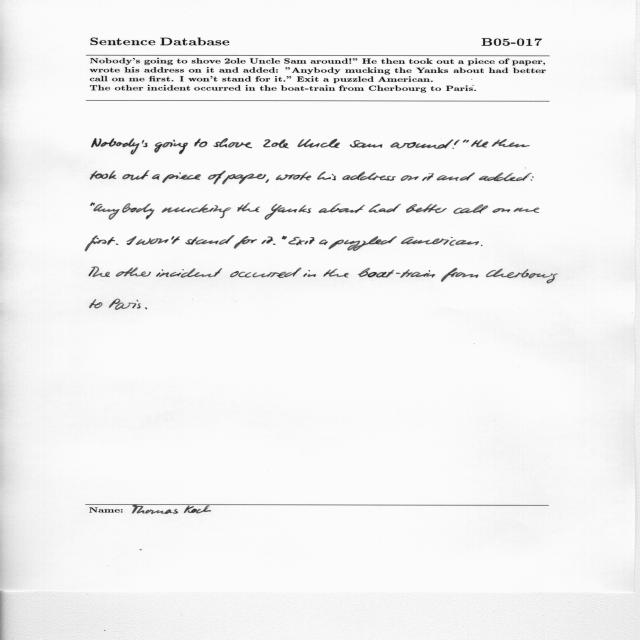word: (486, 269, 558, 284), (93, 203, 155, 220), (328, 236, 397, 251), (161, 204, 231, 218), (91, 138, 140, 155), (230, 267, 302, 278), (358, 268, 435, 278), (265, 204, 311, 220), (401, 237, 479, 246), (156, 268, 222, 278), (390, 139, 454, 149), (441, 268, 478, 282), (185, 235, 235, 245), (342, 172, 396, 181), (222, 174, 266, 185), (85, 236, 115, 252), (155, 140, 189, 154), (479, 173, 531, 182), (319, 204, 365, 214), (162, 172, 201, 183), (136, 236, 180, 245), (298, 139, 341, 148), (214, 138, 252, 148), (406, 204, 447, 213), (109, 299, 141, 310), (454, 204, 489, 214), (116, 267, 151, 277), (437, 172, 475, 181), (492, 139, 530, 147), (234, 236, 257, 249), (369, 204, 401, 213), (122, 171, 150, 181), (276, 172, 311, 180), (350, 140, 382, 148), (208, 171, 226, 185), (90, 171, 117, 180), (263, 139, 289, 148), (323, 269, 349, 278), (288, 237, 315, 245), (89, 267, 110, 277), (237, 203, 260, 212), (317, 172, 336, 181), (514, 207, 540, 213), (471, 140, 488, 148), (194, 139, 207, 148), (90, 299, 103, 308), (401, 175, 419, 181), (126, 236, 137, 245), (422, 173, 434, 181), (304, 270, 317, 277), (493, 208, 511, 213), (262, 237, 273, 244), (452, 140, 460, 149), (319, 239, 328, 245), (152, 174, 160, 180), (142, 140, 148, 147), (282, 236, 287, 240), (463, 140, 469, 143), (265, 179, 269, 183), (531, 176, 534, 181), (91, 203, 95, 206), (116, 243, 119, 245), (145, 308, 147, 310), (273, 244, 276, 245), (481, 245, 482, 246)
